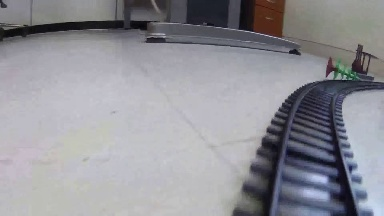tree: (318, 58, 369, 92)
